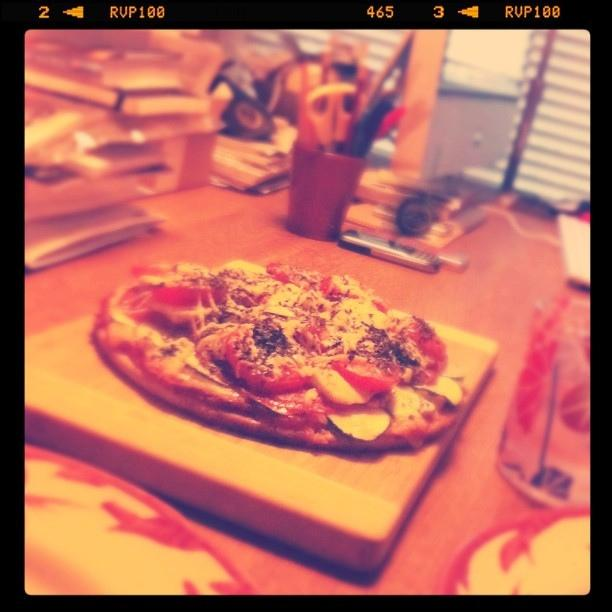tomato: (225, 332, 312, 394), (266, 262, 342, 301), (400, 318, 448, 376), (330, 360, 400, 398), (151, 284, 230, 308), (131, 264, 169, 279)
